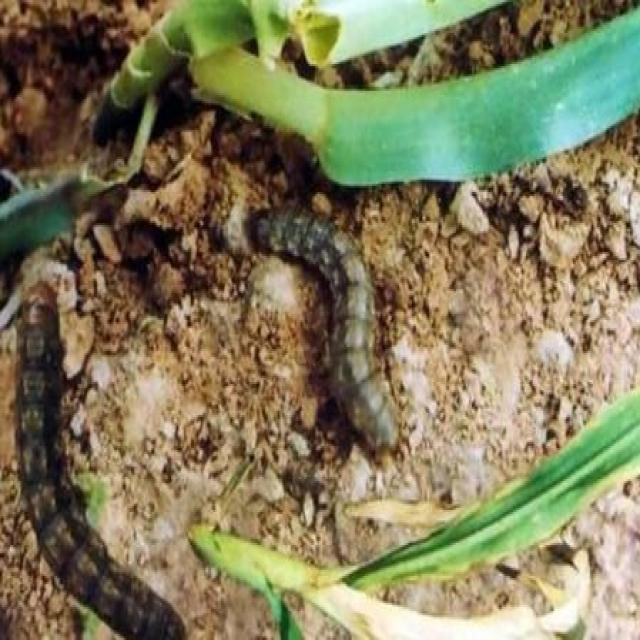black cutworm: (16, 280, 191, 639), (249, 199, 406, 455)
